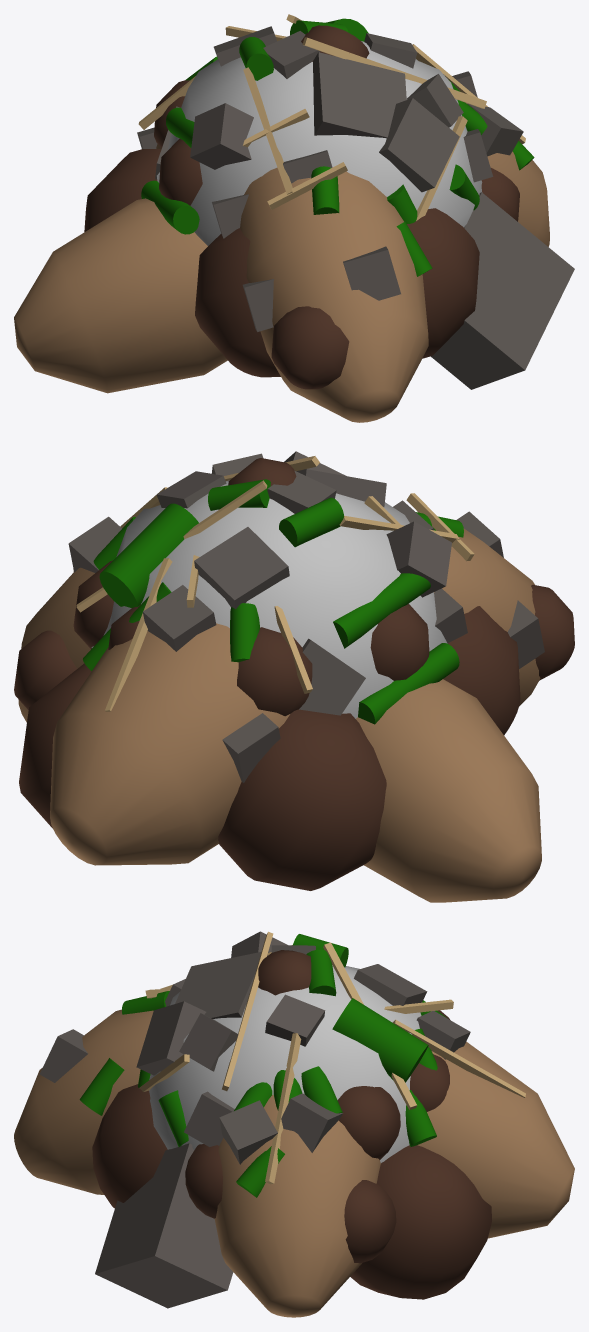
The model's file is trash.gltf.
3 renders of one model, top to bottom at view 1: azimuth 30°, elevation 25°; view 2: azimuth 150°, elevation 25°; view 3: azimuth 270°, elevation 25°, orthographic. The views are drawn at different scales.
Size of the model in its own units: 12.27 by 8.08 by 12.65.
